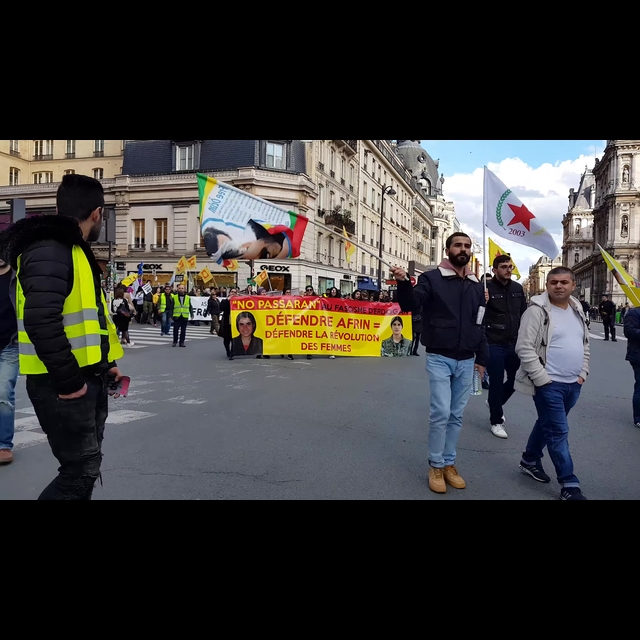PYD: (496, 177, 550, 244)
